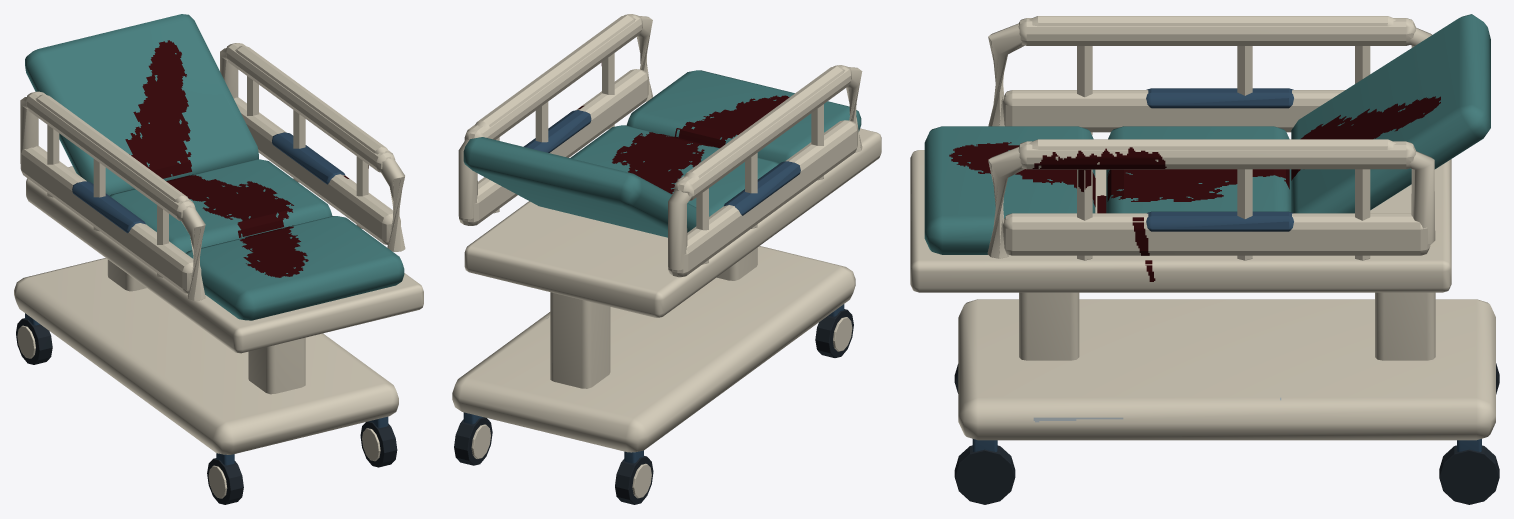
The model's file is procedure_stretcher.glb.
The picture shows the model from 3 angles, left to right: view 1: azimuth 30°, elevation 25°; view 2: azimuth 150°, elevation 25°; view 3: azimuth 270°, elevation 25°; orthographic projection. The views are drawn at different scales.
Visible parts, largest first — view 1: procedure_stretcher_Outbreak_Static; view 2: procedure_stretcher_Outbreak_Static; view 3: procedure_stretcher_Outbreak_Static.
Part boxes in pixels (x1=…): procedure_stretcher_Outbreak_Static: x1=14, y1=14, x2=423, y2=504; procedure_stretcher_Outbreak_Static: x1=452, y1=14, x2=881, y2=504; procedure_stretcher_Outbreak_Static: x1=910, y1=14, x2=1499, y2=504.
Size of the model in its own units: 0.901 by 1.22 by 1.65.
